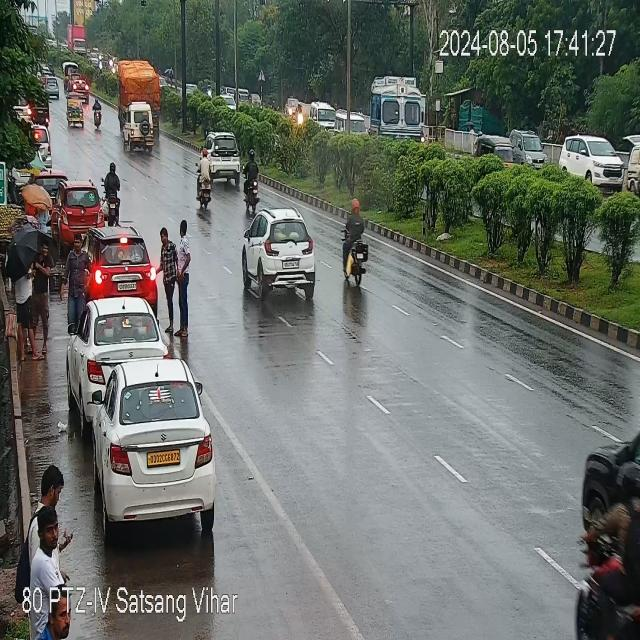2-wheelers: (578, 462, 640, 640), (338, 206, 374, 289), (97, 158, 125, 226), (192, 156, 221, 208), (239, 156, 264, 206), (91, 98, 107, 132)
auto: (477, 126, 513, 169), (64, 63, 95, 99), (63, 96, 90, 128)
car: (82, 356, 219, 530), (71, 299, 167, 395), (243, 210, 319, 300), (84, 230, 158, 302), (558, 132, 631, 188), (53, 187, 106, 235), (200, 133, 246, 178), (122, 105, 162, 156), (508, 126, 548, 170), (33, 118, 51, 171), (312, 101, 337, 132), (335, 110, 365, 134), (44, 76, 60, 100)
pedestrian: (30, 466, 80, 588), (11, 230, 52, 365), (162, 215, 195, 339), (31, 513, 73, 594), (28, 175, 51, 222)
truck: (372, 71, 426, 145), (117, 62, 159, 130), (67, 23, 86, 60)
